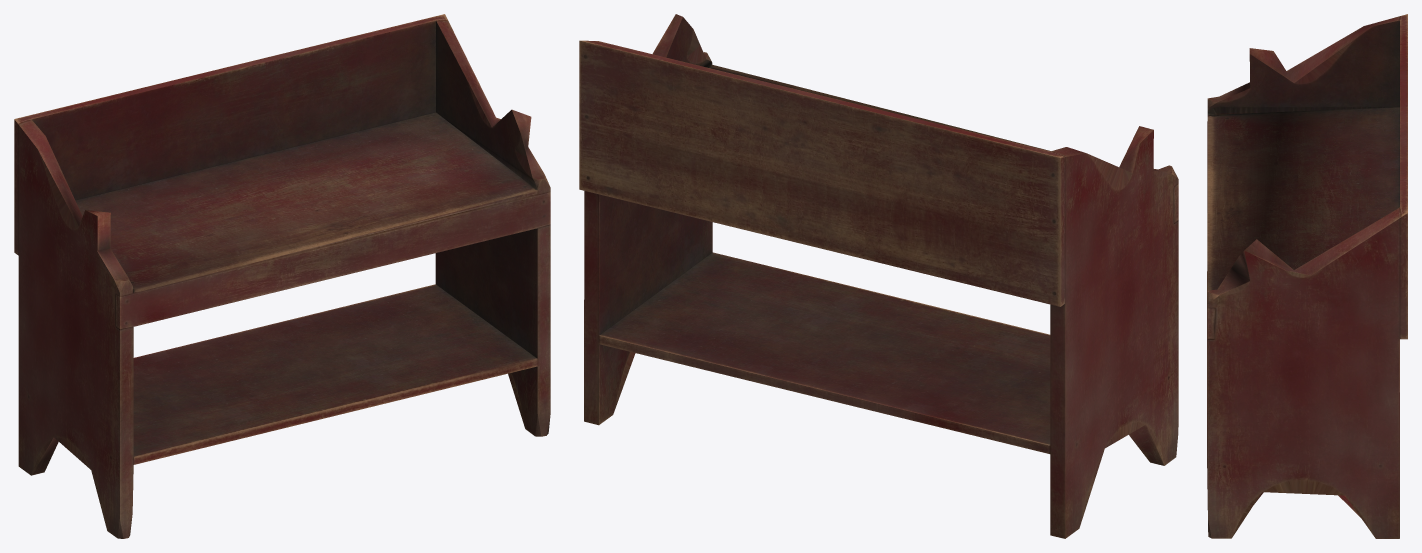
Rendered from painted_wooden_bench.glb.
The picture shows the model from 3 angles, left to right: view 1: azimuth 30°, elevation 25°; view 2: azimuth 150°, elevation 25°; view 3: azimuth 270°, elevation 25°; orthographic projection. The views are drawn at different scales.
Parts seen in each view (by area): view 1: painted_wooden_bench; view 2: painted_wooden_bench; view 3: painted_wooden_bench.
Part boxes in pixels (x1,y1,x2,y2): painted_wooden_bench: (14, 14, 550, 538); painted_wooden_bench: (579, 14, 1178, 538); painted_wooden_bench: (1207, 14, 1407, 538).
Size of the model in its own units: 1.16 by 0.8893 by 0.4965.
Materials: 1 (1 with a texture image).
